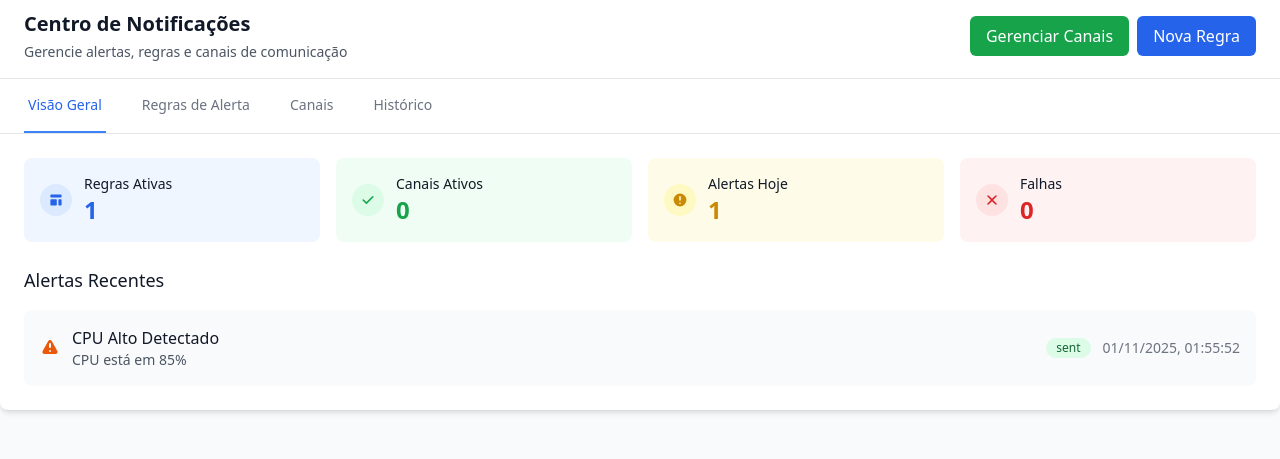
Test: NotificationCenter › deve mostrar mensagem quando não há canais
Ir para aba de canais
Step 1. Click the button "Canais" → click(312, 106), box [286,79,338,133]
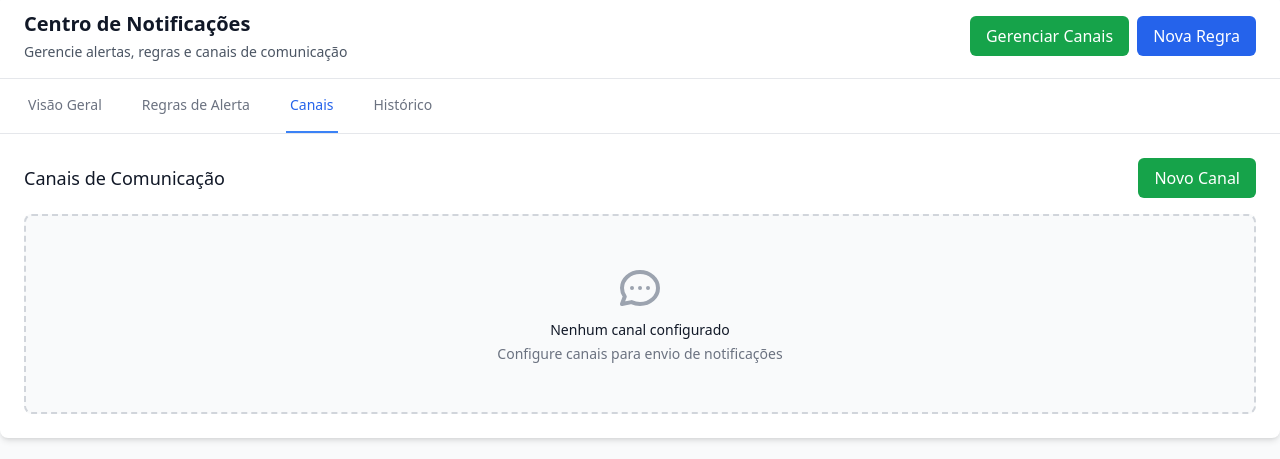
Check: the heading "Nenhum canal configurado" is shown, box [550,320,730,339]
